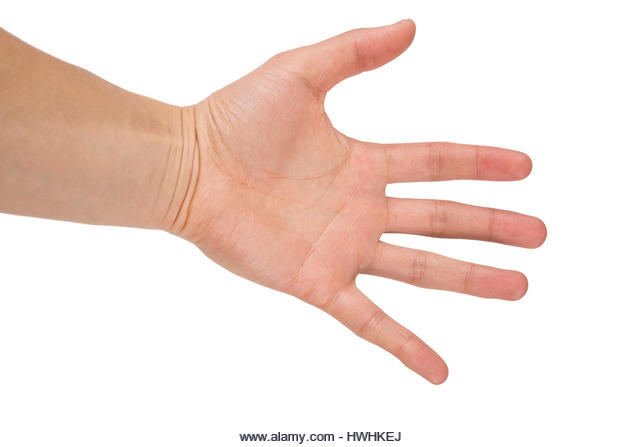non-diseased: (195, 19, 536, 380)
